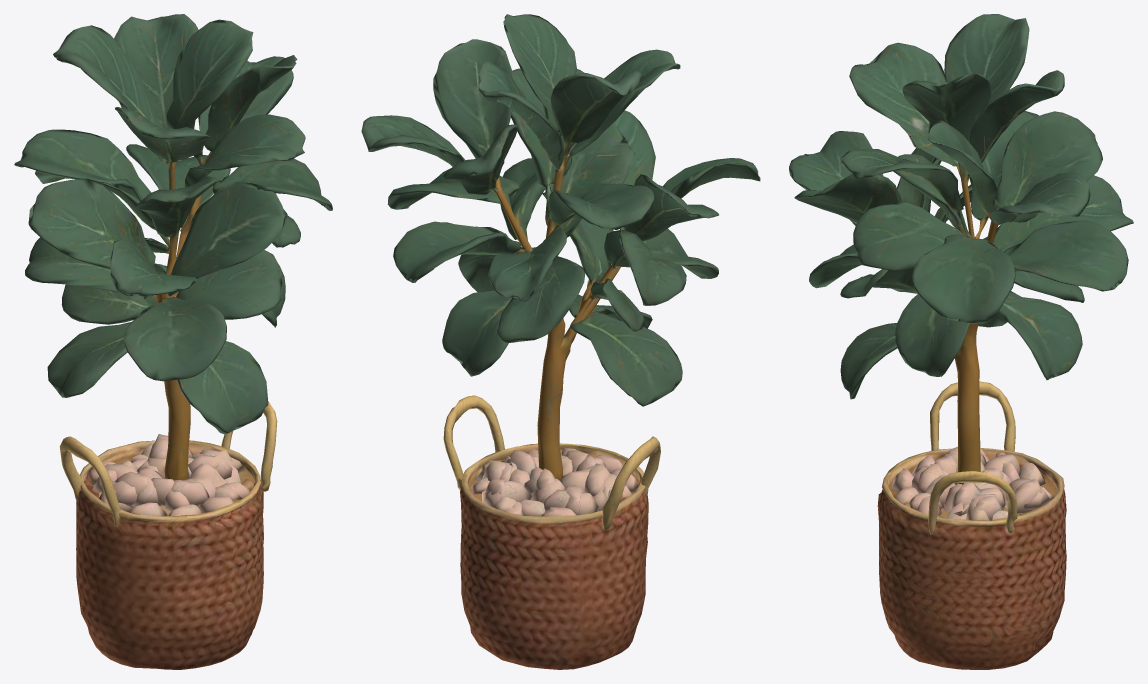
File: plant_fiddle_leaf.glb
3 renders of one model, left to right at view 1: azimuth 30°, elevation 25°; view 2: azimuth 150°, elevation 25°; view 3: azimuth 270°, elevation 25°, orthographic. The views are drawn at different scales.
Parts seen in each view (by area): view 1: prop; view 2: prop; view 3: prop.
Part boxes in pixels (x1,y1,x2,y2): prop: [14, 14, 332, 669]; prop: [361, 14, 760, 669]; prop: [789, 14, 1133, 669].
Bounding box in the file's own units: 0.8474 × 1.6 × 0.8474.
1 material, 1 textured.
